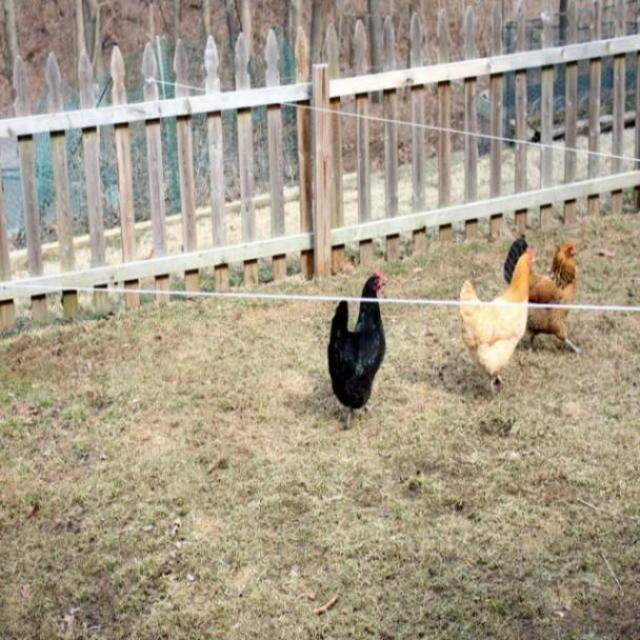Chicken: (449, 248, 534, 414), (504, 231, 583, 369), (328, 270, 392, 435)
